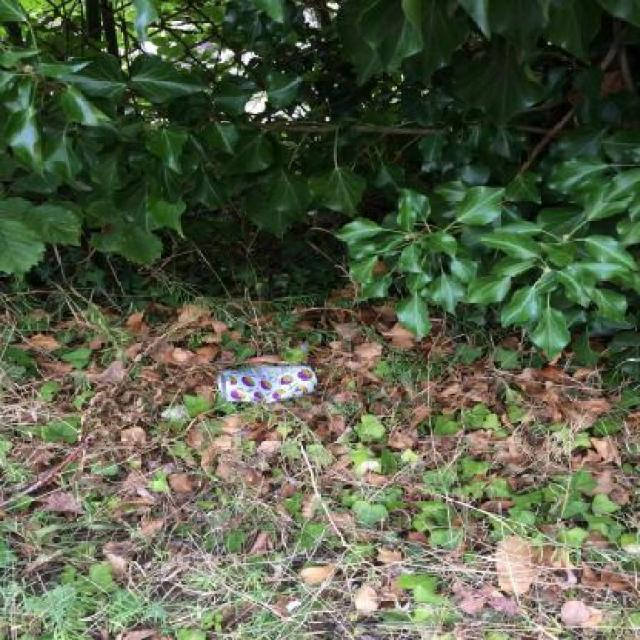Garbage: (217, 365, 317, 403)
